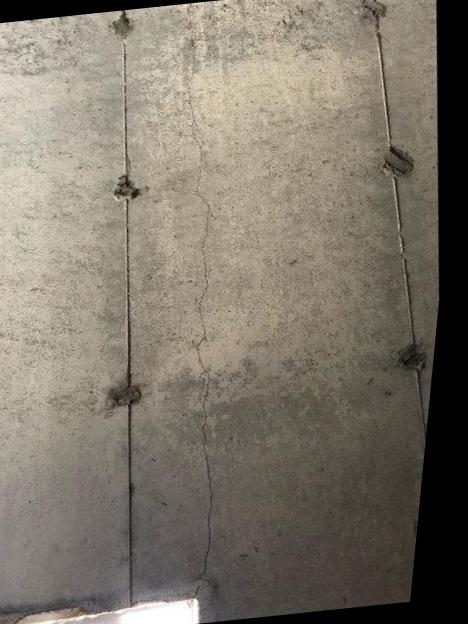crack: (190, 59, 223, 597)
